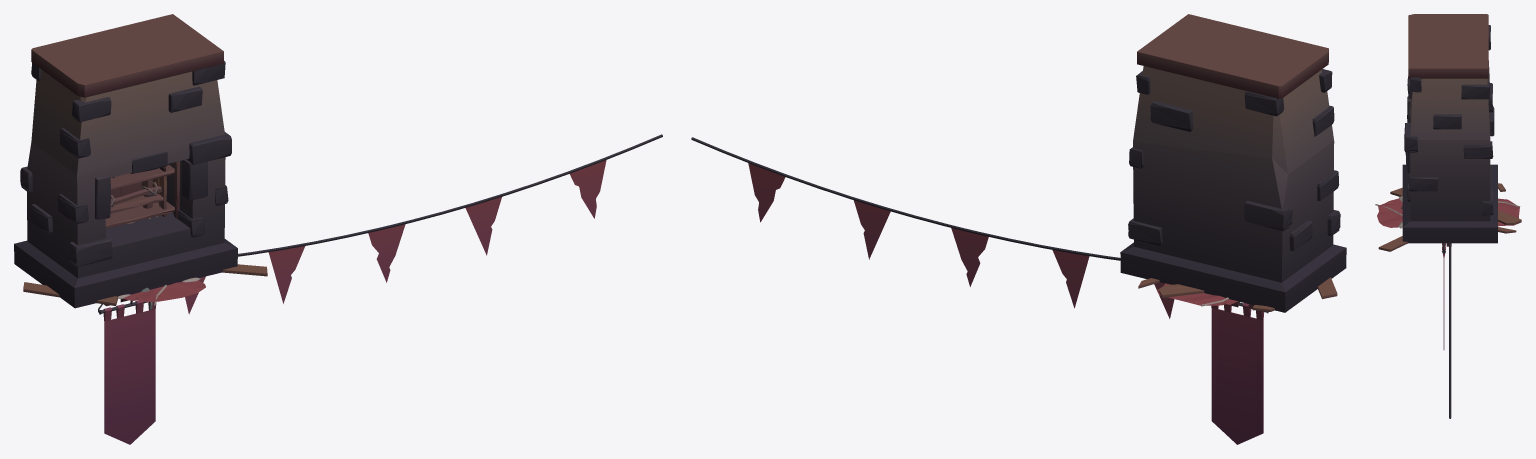
3 renders of one model, left to right at view 1: azimuth 30°, elevation 25°; view 2: azimuth 150°, elevation 25°; view 3: azimuth 270°, elevation 25°, orthographic. The views are drawn at different scales.
Parts seen in each view (by area): view 1: SM_Chimney_05, SM_Flag_02_E, SM_Rope_Flag_08m_A, SM_Cupboard_04_C, SM_Cloth_2A, SM_Wood_Pile_01_B, SM_Cupboard_01_C; view 2: SM_Chimney_05, SM_Flag_02_E, SM_Rope_Flag_08m_A, SM_Wood_Pile_01_B; view 3: SM_Chimney_05, SM_Cloth_2A, SM_Wood_Pile_01_B, SM_Rope_Flag_08m_A, SM_Flag_02_E.
Part boxes in pixels (x1,y1,x2,y2): SM_Chimney_05: (14,14,237,308); SM_Flag_02_E: (98,300,156,444); SM_Rope_Flag_08m_A: (185,134,662,314); SM_Cupboard_04_C: (105,161,179,228); SM_Cloth_2A: (123,280,205,302); SM_Wood_Pile_01_B: (23,264,267,305); SM_Cupboard_01_C: (110,167,166,216); SM_Chimney_05: (1120,14,1346,312); SM_Flag_02_E: (1211,302,1268,444); SM_Rope_Flag_08m_A: (691,137,1174,318); SM_Wood_Pile_01_B: (1138,277,1337,311); SM_Chimney_05: (1402,14,1497,243); SM_Cloth_2A: (1377,198,1519,227); SM_Wood_Pile_01_B: (1378,183,1521,251); SM_Rope_Flag_08m_A: (1449,243,1451,418); SM_Flag_02_E: (1442,243,1445,349).
Size of the model in its own units: 980 by 575 by 247.
1 material, 1 textured.
